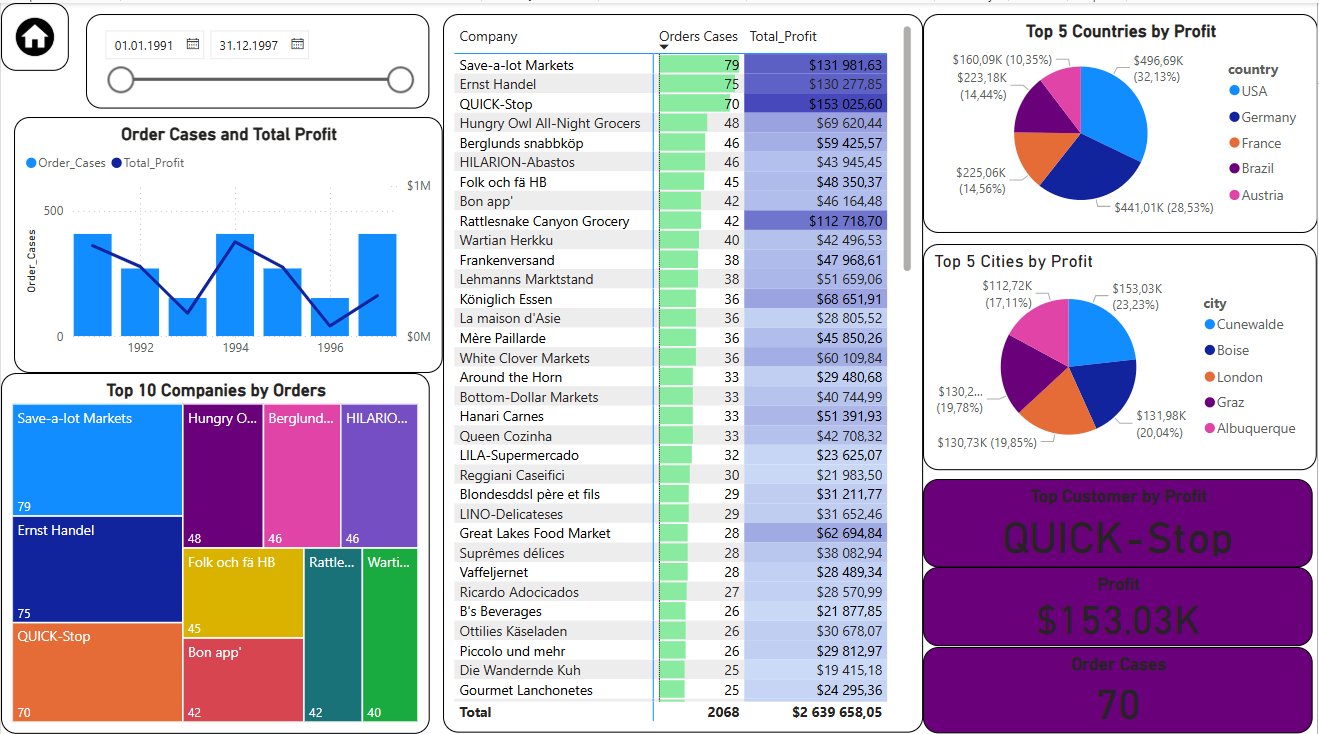

The page's visual inventory and layout, read from the dashboard file:
{"tool":"powerbi","page":{"name":"Clients Overview","canvas":[1280,720],"ordinal":4},"visuals":[{"type":"pivotTable","fields":{"Rows":["customers.company_name"],"Values":["Nw_orders_derails_total.Orders_cases_dist","Nw_orders_derails_total.Total_Profit"]},"box":[429.7,11,466.7,699.1],"z":0},{"type":"treemap","title":"Top 10 Companies by Orders","fields":{"Group":["customers.company_name"],"Values":["Nw_orders_total.Order_Cases"]},"box":[0,359.6,416.7,350.5],"z":1000},{"type":"pieChart","title":"Top 5 Countries by Profit","fields":{"Category":["customers.country"],"Y":["Nw_orders_derails_total.Total_Profit"]},"box":[896.4,11,383.6,213.3],"z":2000},{"type":"pieChart","title":"Top 5 Cities by Profit","fields":{"Category":["customers.city"],"Y":["Nw_orders_derails_total.Total_Profit"]},"box":[896.4,234.4,382.6,220.3],"z":3000},{"type":"slicer","fields":{"Values":["Calendar.Date"]},"box":[82.7,10.7,333.6,92.4],"z":4000},{"type":"lineStackedColumnComboChart","title":"Order Cases and Total Profit ","fields":{"Y":["Nw_orders_total.Order_Cases"],"Category":["Calendar.Start_of_Year"],"Y2":["Nw_orders_derails_total.Total_Profit"]},"box":[13,111.2,416.7,249.4],"z":5000},{"type":"card","title":"Top Customer by Profit","fields":{"Values":["Min(customers.company_name)"]},"box":[896.4,462.7,378.6,86.1],"z":6000},{"type":"card","title":"Profit","fields":{"Values":["Nw_orders_derails_total.Total_Profit"]},"box":[896.4,548.9,378.6,77.1],"z":7000},{"type":"card","title":"Order Cases","fields":{"Values":["Nw_orders_derails_total.Orders_cases_dist"]},"box":[896.4,626,378.6,84.1],"z":8000},{"type":"image","box":[0,0,66.1,66.1],"z":9000}]}

Visuals, with their boxes in screenshot pixels (x1, y1, x2, y2), scaled from the page's 1280x720 canvas onto the 1319x734 screenshot:
pivotTable - customers.company_name x Nw_orders_derails_total.Orders_cases_dist: <box>443,11,924,724</box>
"Top 10 Companies by Orders" treemap: <box>0,367,429,724</box>
"Top 5 Countries by Profit" pieChart: <box>924,11,1318,229</box>
"Top 5 Cities by Profit" pieChart: <box>924,239,1318,464</box>
slicer - Calendar.Date: <box>85,11,429,105</box>
"Order Cases and Total Profit " lineStackedColumnComboChart: <box>13,113,443,368</box>
"Top Customer by Profit" card: <box>924,472,1314,559</box>
"Profit" card: <box>924,560,1314,638</box>
"Order Cases" card: <box>924,638,1314,724</box>
image: <box>0,0,68,67</box>
